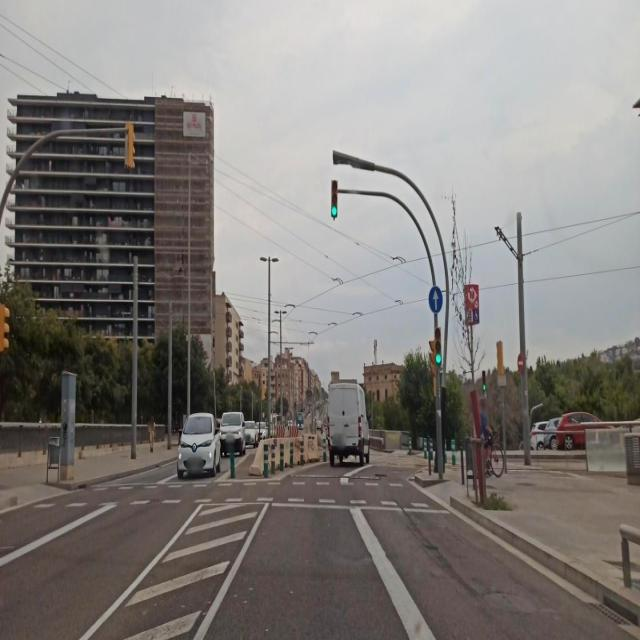car: (326, 379, 371, 468), (176, 412, 221, 480), (547, 410, 600, 452), (220, 410, 247, 458), (530, 420, 554, 450), (244, 419, 259, 448), (258, 421, 268, 440)
